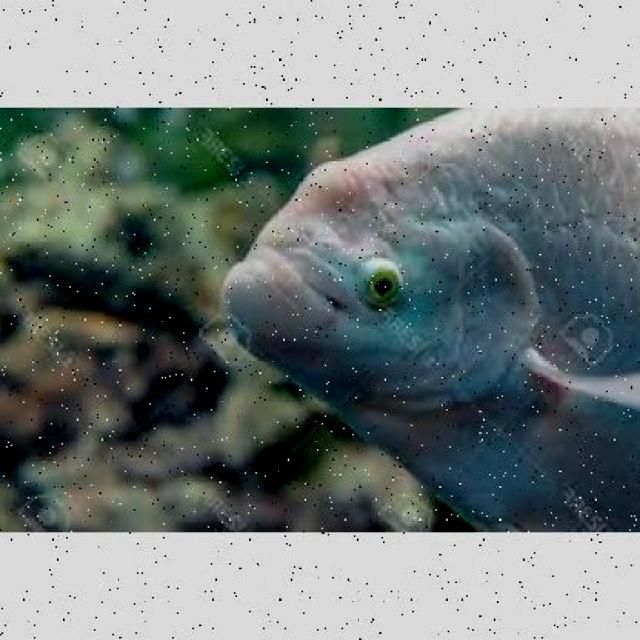gurame: (222, 106, 640, 524)
